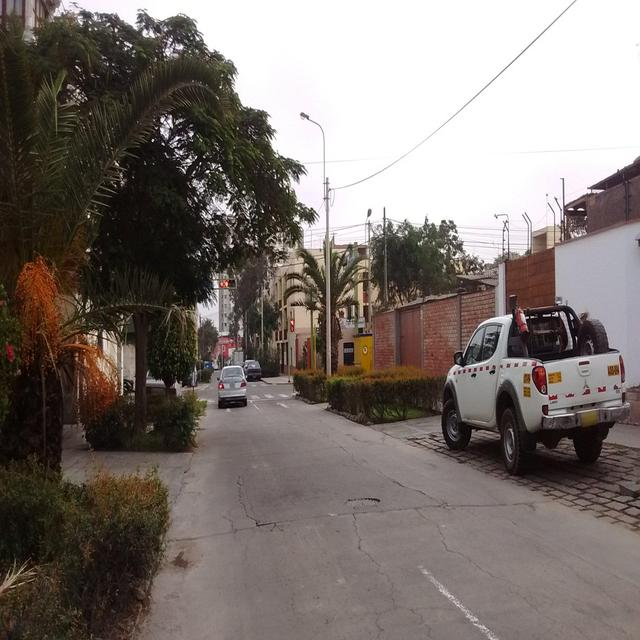Billboard: (337, 316, 365, 327)
Car: (441, 294, 630, 474), (146, 360, 260, 409)
Manhole: (347, 497, 378, 510)
Motorcycle: (123, 378, 134, 395)
Vegetation: (283, 223, 446, 424), (201, 319, 225, 381)
